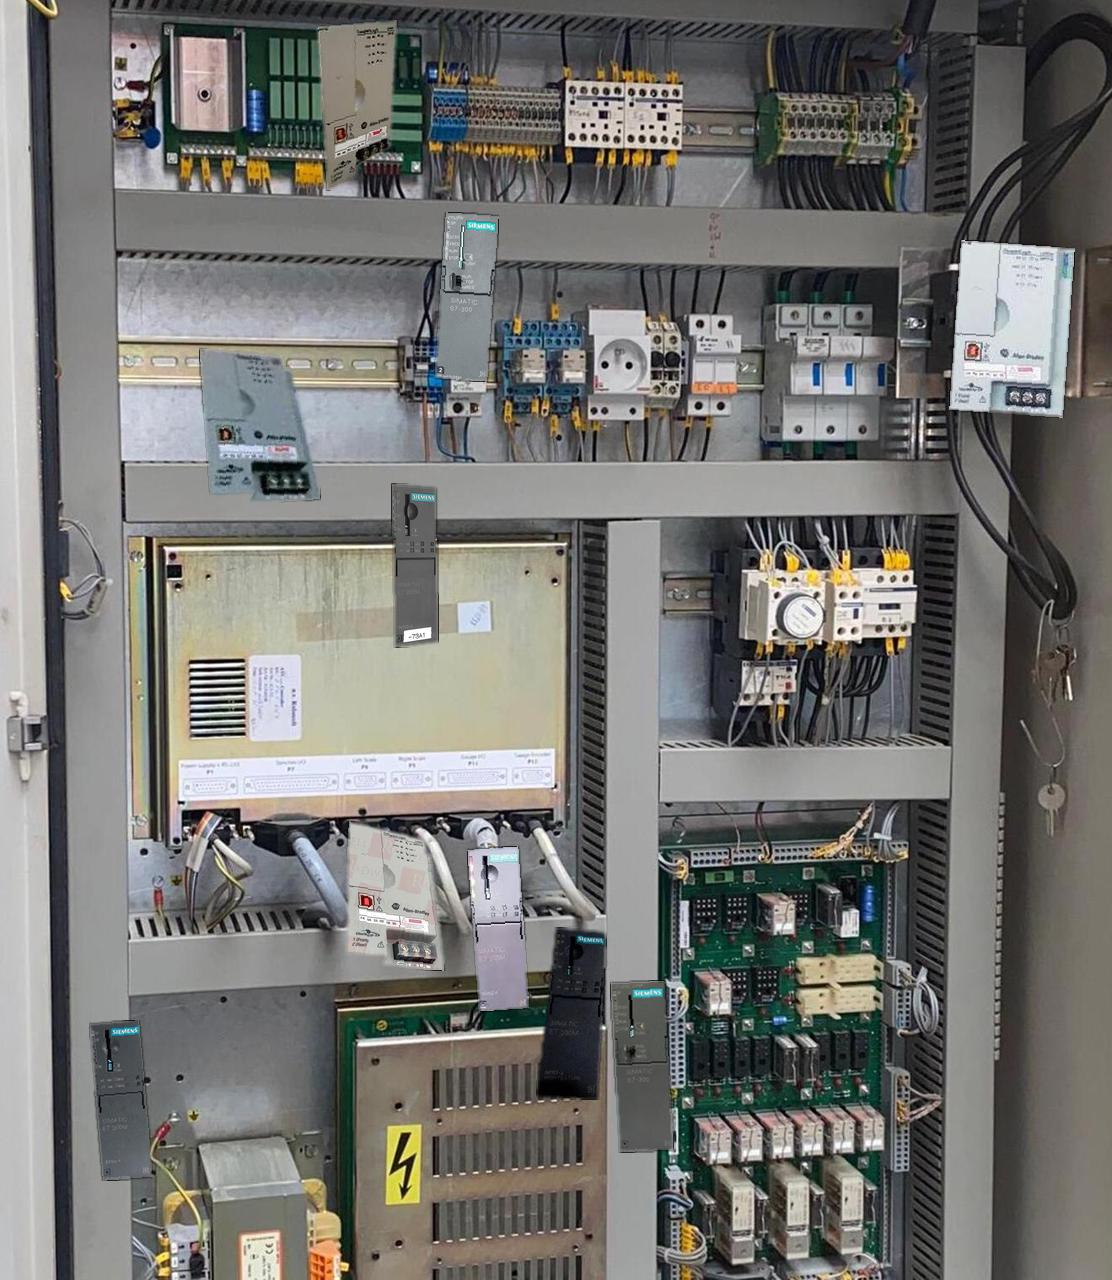AllenBradley: (949, 239, 1074, 416), (200, 349, 319, 500), (347, 821, 443, 970), (317, 20, 396, 189)
Siemens: (435, 212, 498, 381), (611, 981, 672, 1150)
